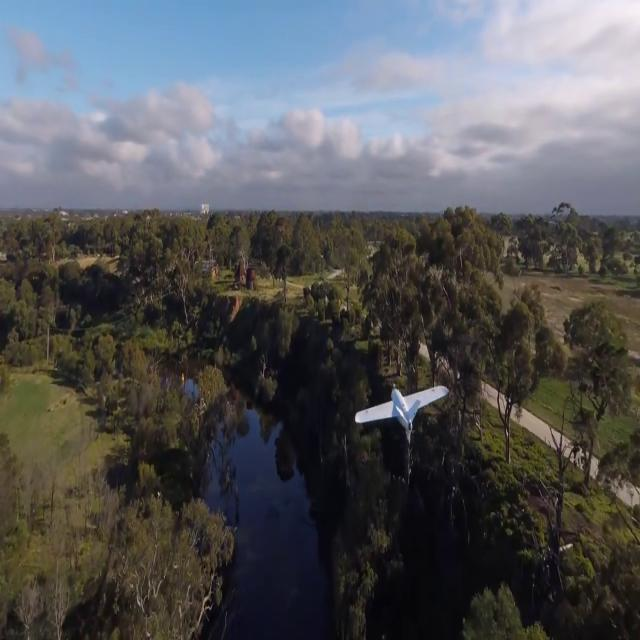iha: (386, 379, 416, 442)
